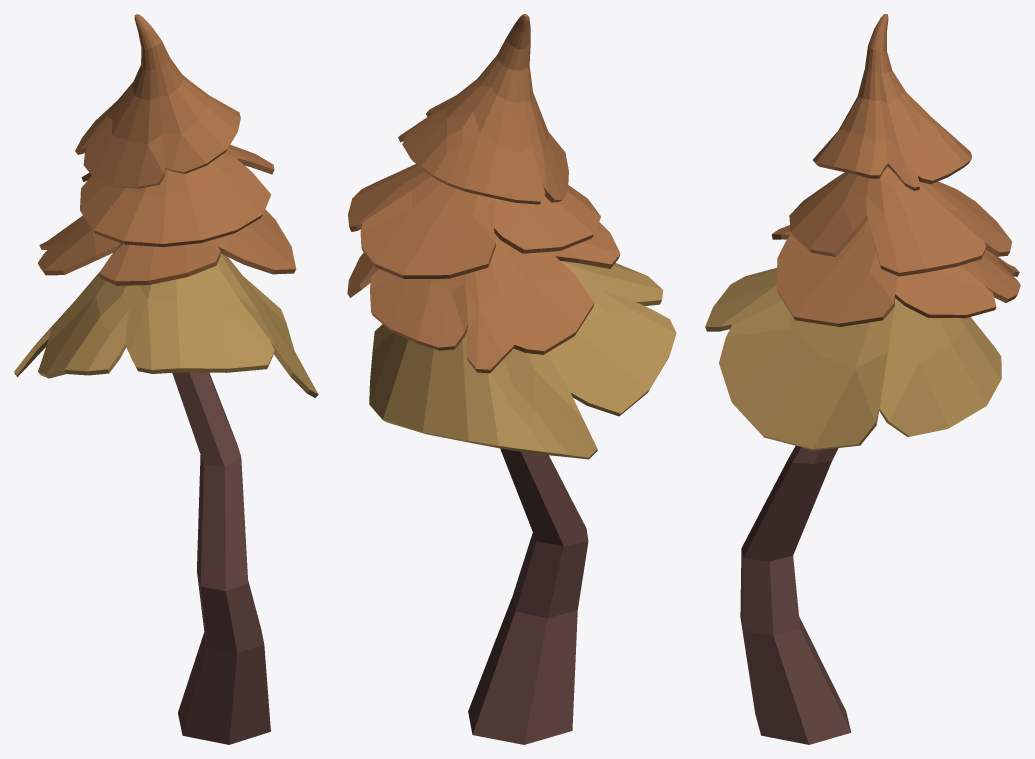
The picture shows the model from 3 angles, left to right: view 1: azimuth 30°, elevation 25°; view 2: azimuth 150°, elevation 25°; view 3: azimuth 270°, elevation 25°; orthographic projection. The views are drawn at different scales.
Visible parts, largest first — view 1: PineTree_Autumn_4; view 2: PineTree_Autumn_4; view 3: PineTree_Autumn_4.
Part boxes in pixels (box(x1,y1,x2,y2)): PineTree_Autumn_4: box(14, 14, 318, 744); PineTree_Autumn_4: box(347, 14, 676, 744); PineTree_Autumn_4: box(705, 14, 1020, 744).
Bounding box in the file's own units: 1.25 × 3.34 × 1.39.
